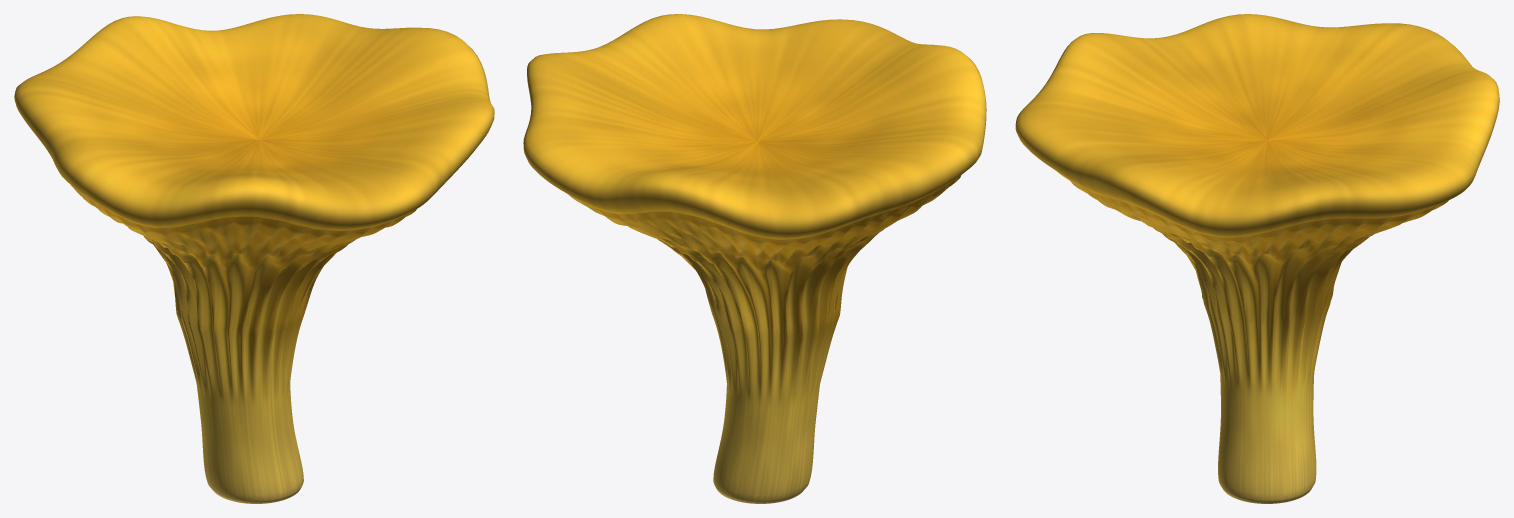
The model's file is cantharellus-cibarius.glb.
3 views of the same model, side by side, from view 1: azimuth 30°, elevation 25°; view 2: azimuth 150°, elevation 25°; view 3: azimuth 270°, elevation 25° (orthographic).
Size of the model in its own units: 1.03 by 0.9307 by 1.03.
1 material, 1 textured.
